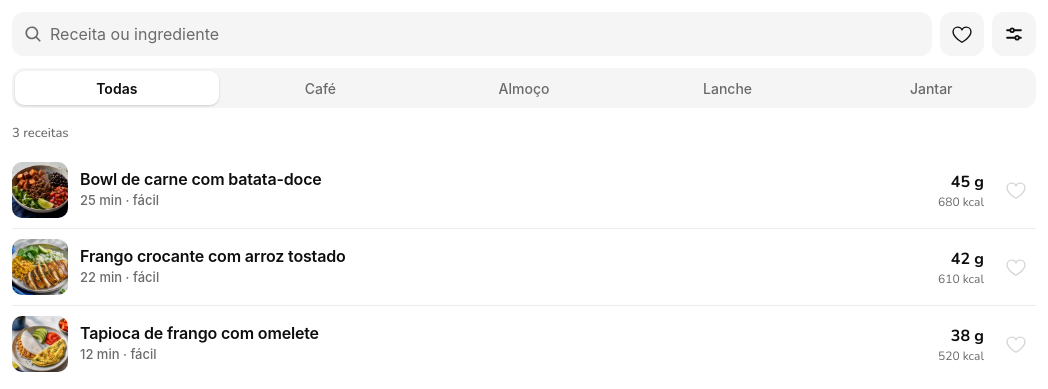
Library › filtra por refeição 'Café' e mostra só a tapioca
The width and height of the screenshot is (1048, 389).
Click the radio button labelled "Café": (320, 88) [219,71,422,105]
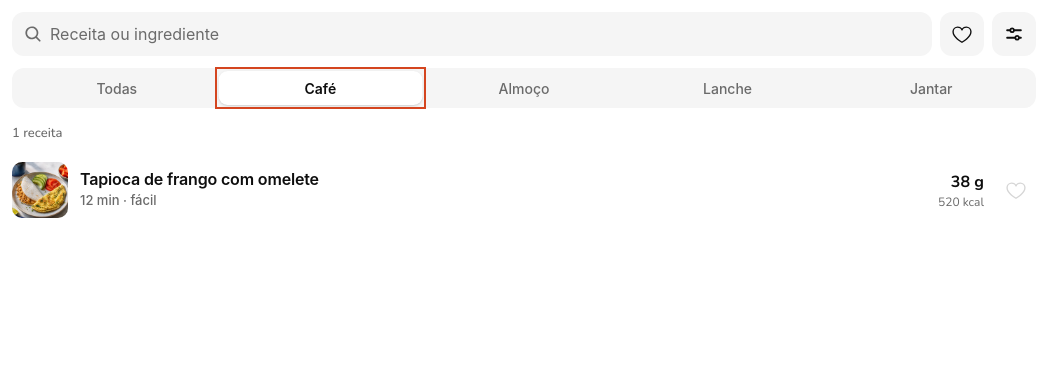
Expected: the text "1 receita" is shown, [12,124,62,144]
